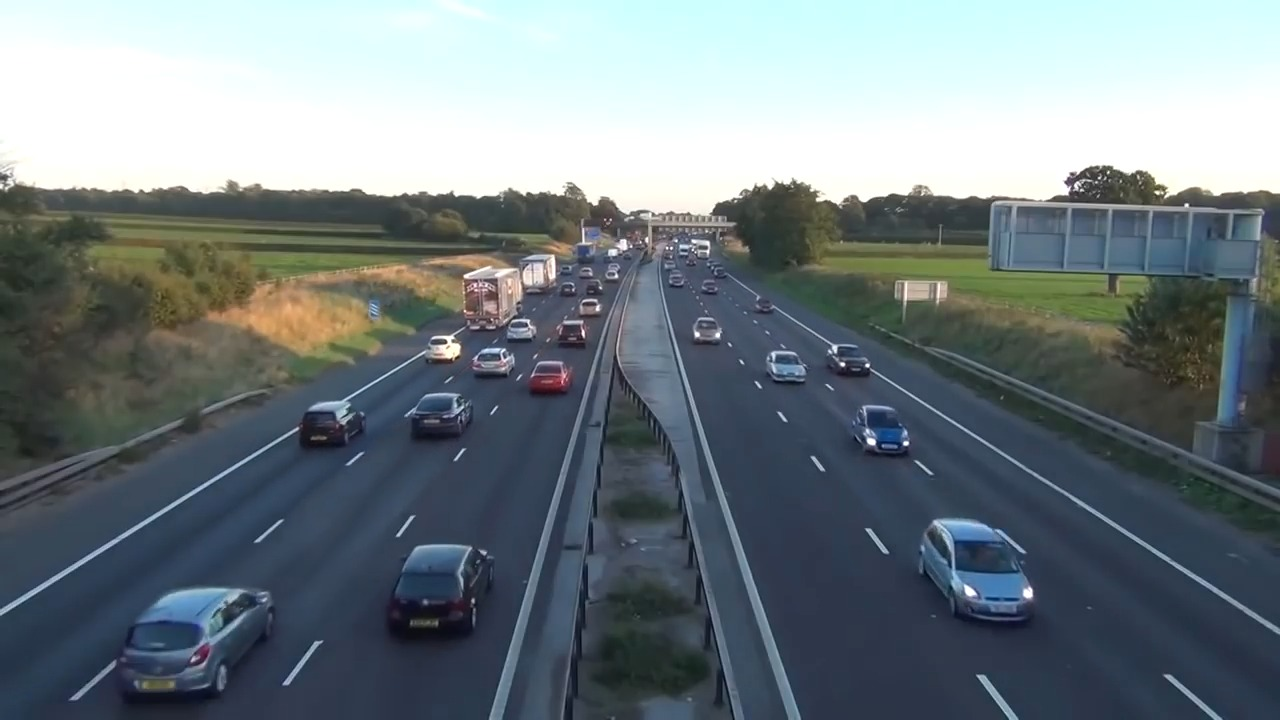truck: (457, 262, 528, 333)
